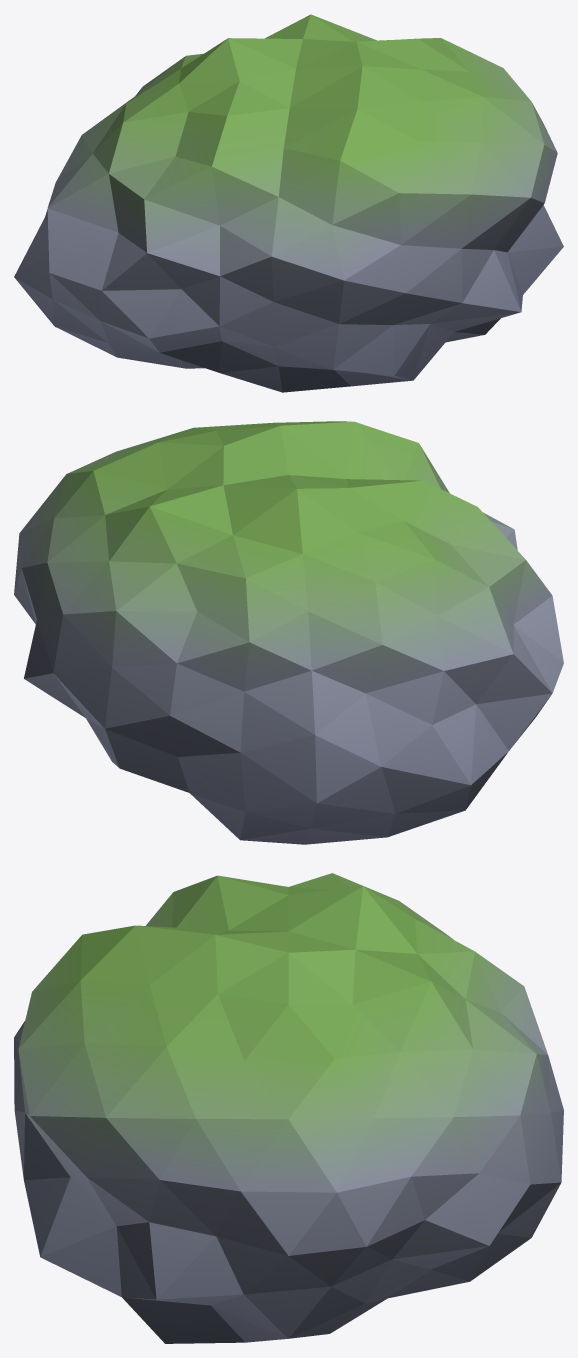
The model's file is rock_a.glb.
3 renders of one model, top to bottom at view 1: azimuth 30°, elevation 25°; view 2: azimuth 150°, elevation 25°; view 3: azimuth 270°, elevation 25°, orthographic. The views are drawn at different scales.
Parts seen in each view (by area): view 1: rock_a; view 2: rock_a; view 3: rock_a.
Part boxes in pixels (x1=…): rock_a: x1=14, y1=14, x2=563, y2=392; rock_a: x1=14, y1=421, x2=563, y2=844; rock_a: x1=14, y1=873, x2=563, y2=1343.
Bounding box in the file's own units: 1.31 × 0.7816 × 1.03.
